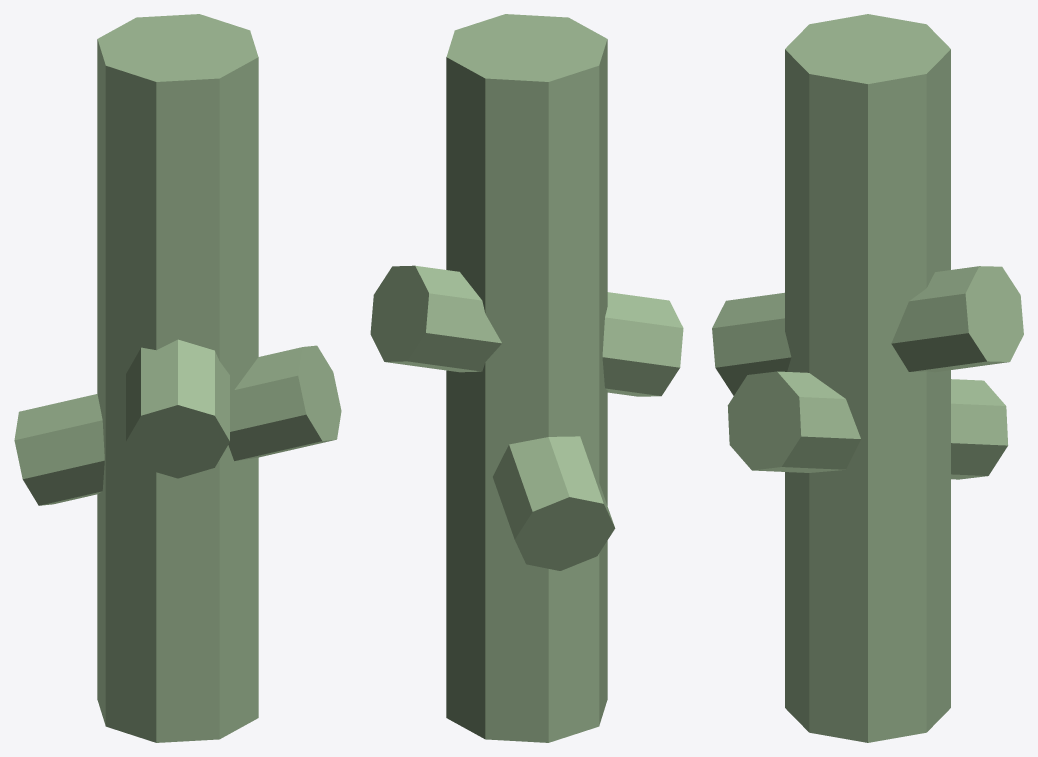
Rendered from vegetation_cactus.glb.
3 views of the same model, side by side, from view 1: azimuth 30°, elevation 25°; view 2: azimuth 150°, elevation 25°; view 3: azimuth 270°, elevation 25° (orthographic).
Visible parts, largest first — view 1: Plant_Cactus; view 2: Plant_Cactus; view 3: Plant_Cactus.
Part boxes in pixels (left/top/right/bottom): Plant_Cactus: left=14, top=14, right=341, bottom=742; Plant_Cactus: left=370, top=14, right=683, bottom=742; Plant_Cactus: left=712, top=14, right=1023, bottom=742.
Bounding box in the file's own units: 1.35 × 3.5 × 1.5.
